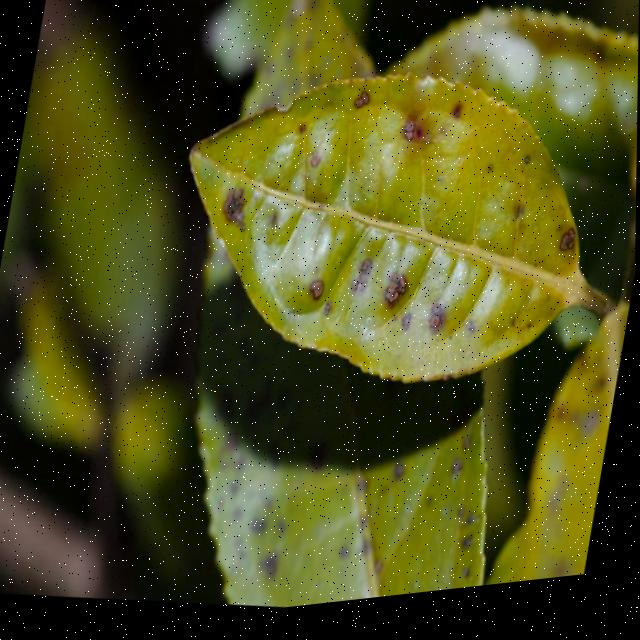Tea red rust: (172, 60, 598, 419)
